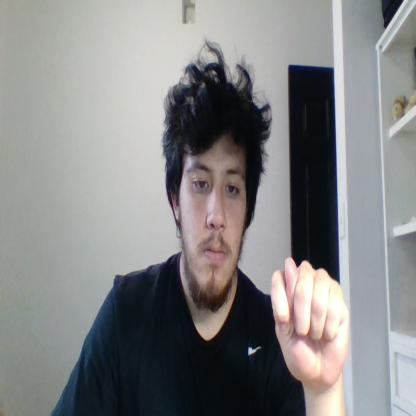T: (270, 257, 349, 386)
